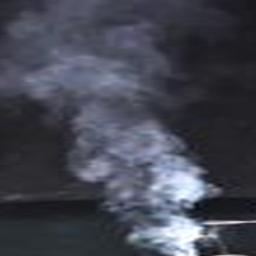smoke: (1, 0, 220, 255)
